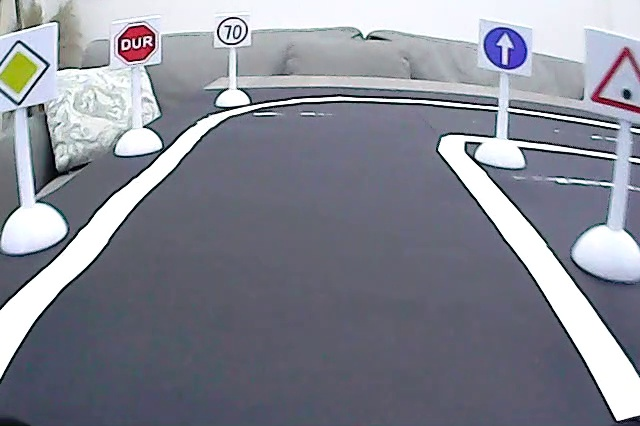green light: (588, 41, 640, 117)
speed limit 70: (216, 16, 249, 48)
stop sign: (114, 18, 159, 64)
